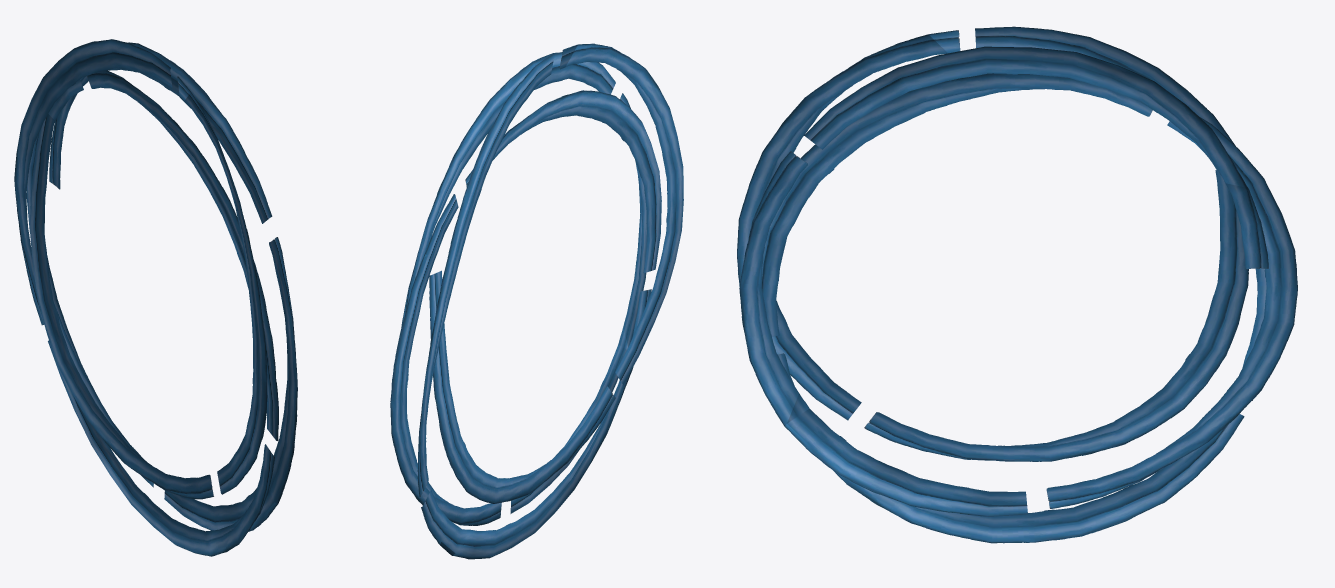
Rendered from Wire_Bundle_01.FBX.
3 views of the same model, side by side, from view 1: azimuth 30°, elevation 25°; view 2: azimuth 150°, elevation 25°; view 3: azimuth 270°, elevation 25° (orthographic). The views are drawn at different scales.
Parts seen in each view (by area): view 1: Wire_Bundle_01; view 2: Wire_Bundle_01; view 3: Wire_Bundle_01.
Part boxes in pixels (<box>): Wire_Bundle_01: <box>14,39,297,556</box>; Wire_Bundle_01: <box>390,43,683,559</box>; Wire_Bundle_01: <box>737,26,1297,543</box>.
Bounding box in the file's own units: 0.5218 × 4.54 × 4.54.
